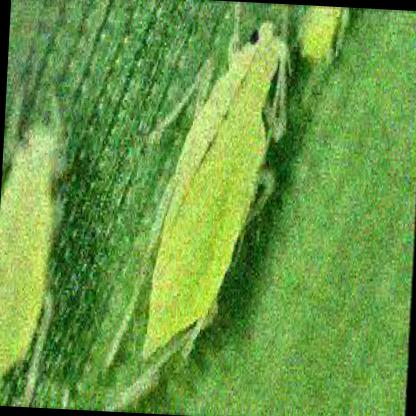schizaphis graminum: (104, 9, 286, 402)
